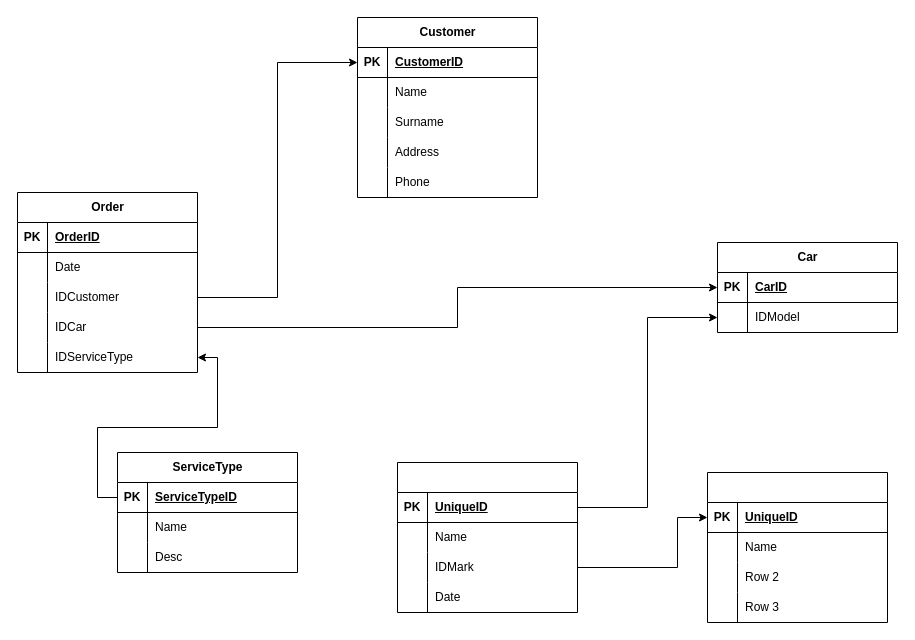
The diagram is 915 pixels wide and 640 high, and some of its shapes have lost their labels. The shapes that lost their labels are listed below. From the top down, each one's box as (x1, y1, x2, y2) in pixels, then its label:
(396, 462, 578, 612): Model
(706, 472, 888, 622): Mark
